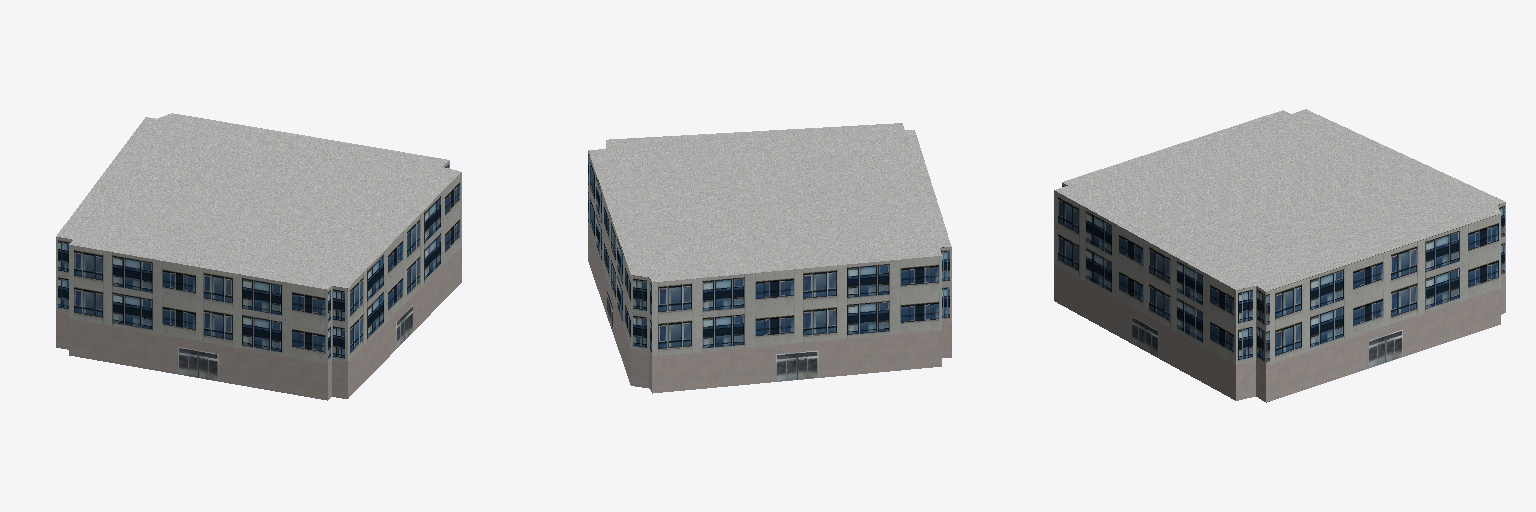
3 views of the same model, side by side, from view 1: azimuth 30°, elevation 25°; view 2: azimuth 150°, elevation 25°; view 3: azimuth 270°, elevation 25° (orthographic).
Visible parts, largest first — view 1: BuildingMaster_[number redacted]_1, BuildingMaster_[number redacted]_0; view 2: BuildingMaster_[number redacted]_1, BuildingMaster_[number redacted]_0; view 3: BuildingMaster_[number redacted]_0, BuildingMaster_[number redacted]_1.
Boxes of the visible parts, x1=… form: BuildingMaster_[number redacted]_1: x1=56, y1=113, x2=460, y2=289; BuildingMaster_[number redacted]_0: x1=56, y1=161, x2=461, y2=400; BuildingMaster_[number redacted]_1: x1=588, y1=123, x2=951, y2=282; BuildingMaster_[number redacted]_0: x1=588, y1=151, x2=951, y2=393; BuildingMaster_[number redacted]_0: x1=1054, y1=183, x2=1505, y2=402; BuildingMaster_[number redacted]_1: x1=1055, y1=109, x2=1504, y2=291.
Bounding box in the file's own units: 37.05 × 10.5 × 38.78.
Materials: 2 (2 with a texture image).